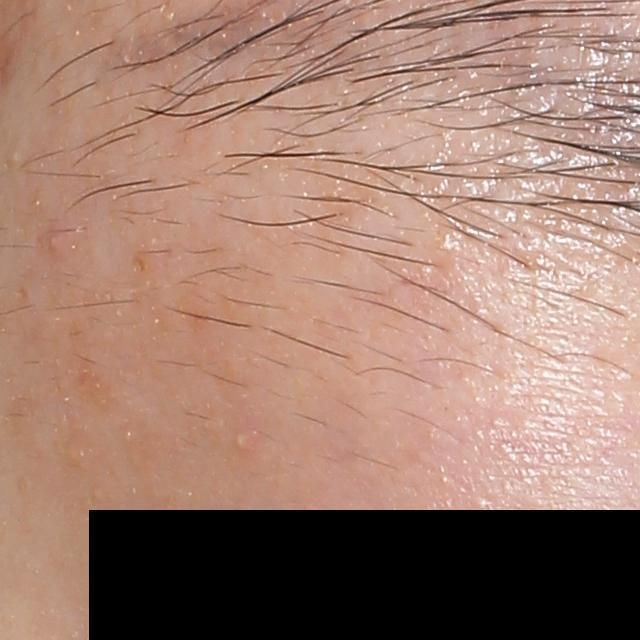papule: (43, 226, 71, 258)
